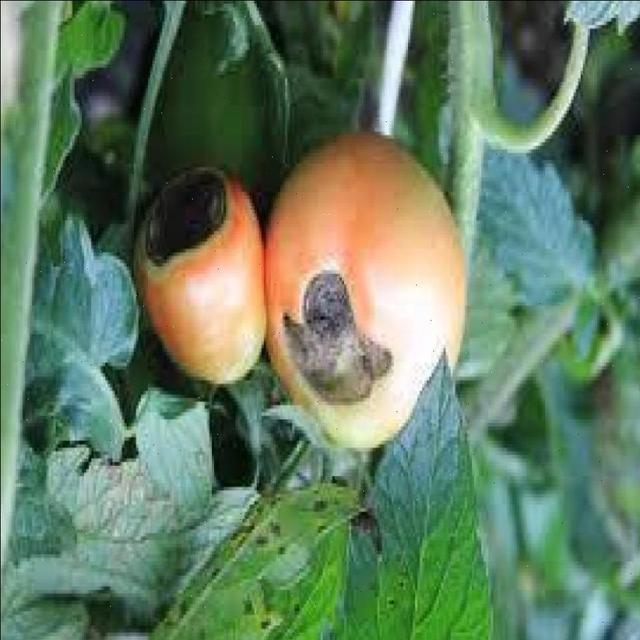Blossom End Rot Fruit: (67, 81, 223, 227)
